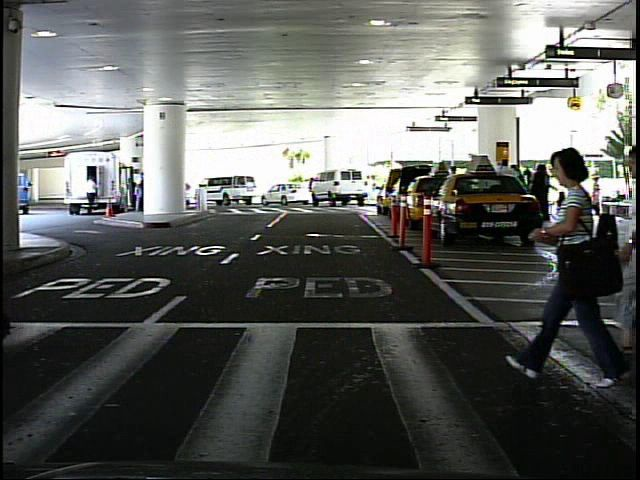person: (537, 138, 625, 396), (84, 172, 103, 218), (366, 171, 379, 205), (597, 172, 598, 218)
